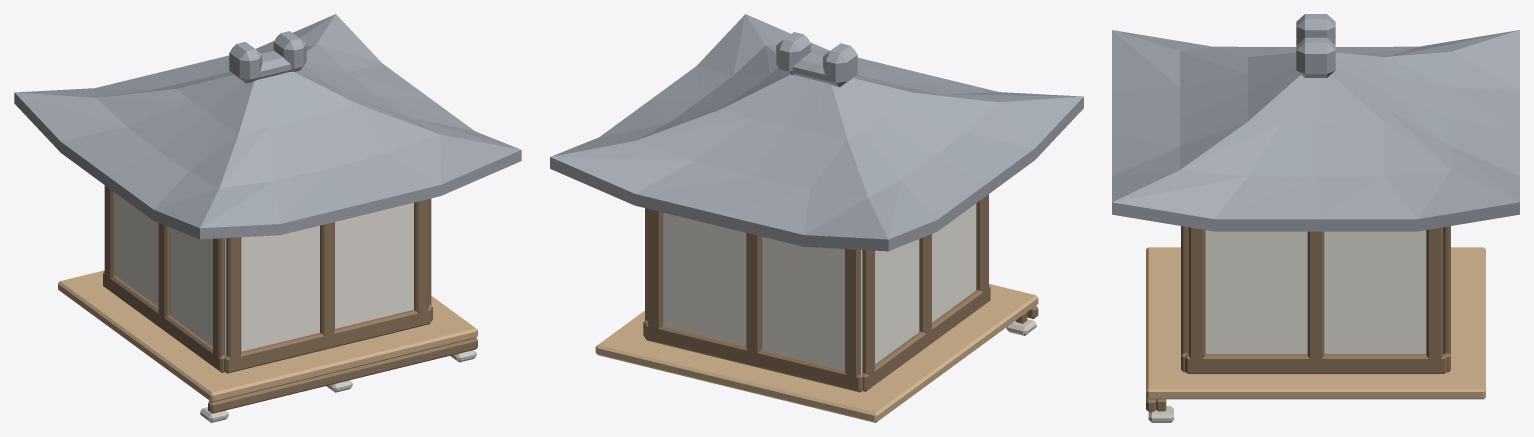
The model's file is feudal-japan-castle-town-pagoda-base-tier-17963699__26394.glb.
3 renders of one model, left to right at view 1: azimuth 30°, elevation 25°; view 2: azimuth 150°, elevation 25°; view 3: azimuth 270°, elevation 25°, orthographic. The views are drawn at different scales.
Visible parts, largest first — view 1: pagoda-base-tier; view 2: pagoda-base-tier; view 3: pagoda-base-tier.
Part boxes in pixels (x1,y1,x2,y2): pagoda-base-tier: [14, 14, 521, 422]; pagoda-base-tier: [550, 14, 1083, 422]; pagoda-base-tier: [1112, 14, 1519, 422].
Size of the model in its own units: 4.8 by 4.21 by 4.8.
